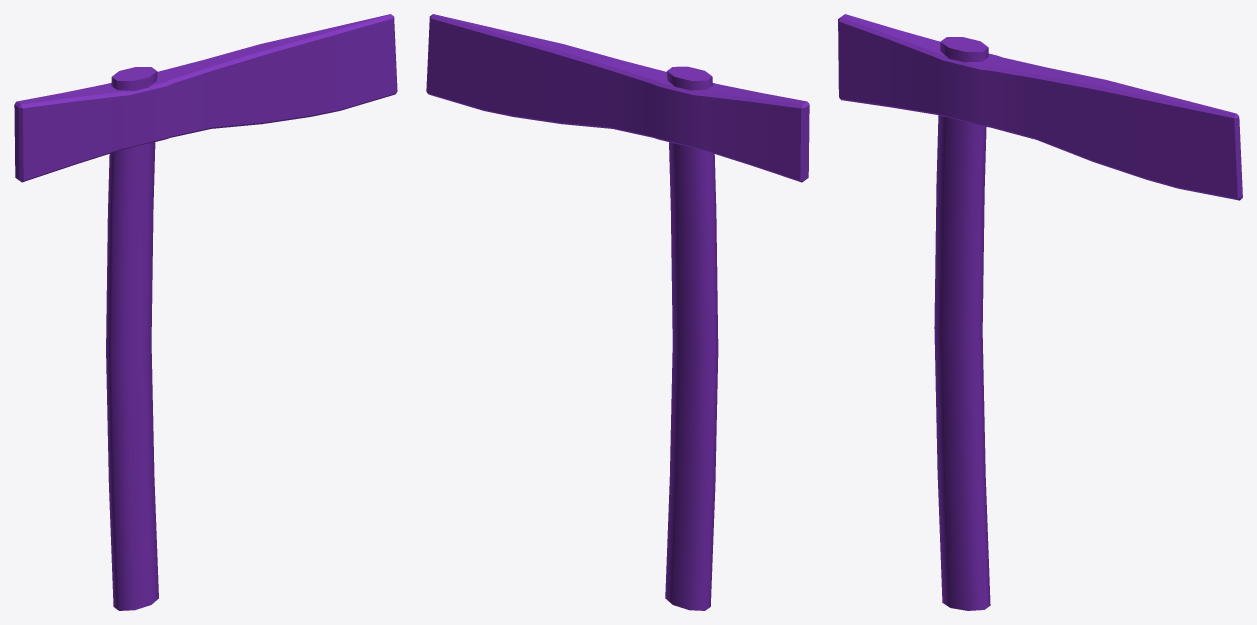
The model's file is Axe_03.fbx.
3 renders of one model, left to right at view 1: azimuth 30°, elevation 25°; view 2: azimuth 150°, elevation 25°; view 3: azimuth 330°, elevation 25°, orthographic. The views are drawn at different scales.
Parts seen in each view (by area): view 1: Axe_head, Axe_handle; view 2: Axe_head, Axe_handle; view 3: Axe_head, Axe_handle.
Part boxes in pixels (x1,y1,x2,y2): Axe_head: (14,14,397,182); Axe_handle: (106,67,158,610); Axe_head: (426,14,809,182); Axe_handle: (665,66,718,610); Axe_head: (838,14,1242,200); Axe_handle: (934,37,990,610).
Bounding box in the file's own units: 44.04 × 58.64 × 3.29.
